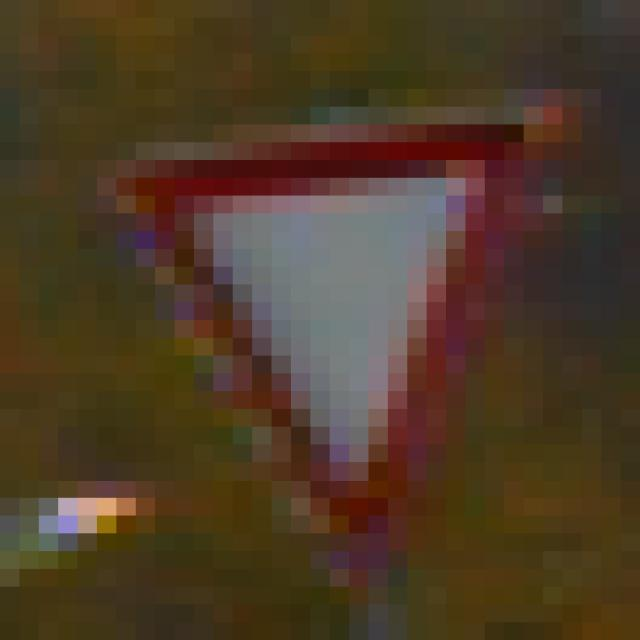Give Way: (117, 90, 544, 552)
